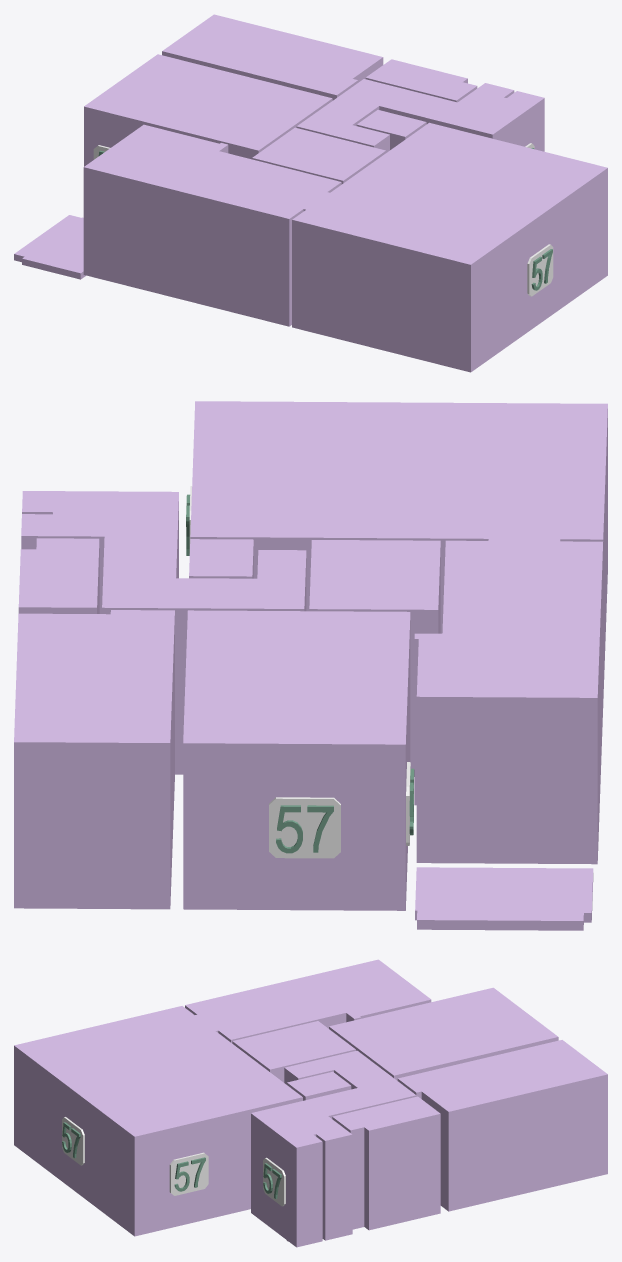
3 renders of one model, top to bottom at view 1: azimuth 30°, elevation 25°; view 2: azimuth 150°, elevation 25°; view 3: azimuth 270°, elevation 25°, orthographic. The views are drawn at different scales.
Parts seen in each view (by area): view 1: g_7, g_6, g_0, g_3, g_1, g_4, g_8, g_2, g_5, g_17; view 2: g_0, g_7, g_6, g_1, g_3, g_8, g_4, g_2, g_14, g_5, g_13; view 3: g_7, g_1, g_3, g_0, g_2, g_6, g_4, g_11, g_5, g_20, g_17.
Part boxes in pixels (x1,y1,x2,y2): g_7: [292, 122, 607, 372]; g_6: [83, 124, 341, 326]; g_0: [84, 54, 332, 166]; g_3: [296, 79, 544, 152]; g_1: [162, 14, 383, 100]; g_4: [252, 127, 385, 184]; g_8: [14, 215, 85, 279]; g_2: [365, 59, 477, 102]; g_5: [356, 110, 426, 149]; g_17: [527, 244, 553, 296]; g_0: [183, 610, 410, 910]; g_7: [190, 401, 607, 698]; g_6: [414, 540, 603, 864]; g_1: [14, 610, 174, 909]; g_3: [21, 491, 306, 774]; g_8: [415, 867, 593, 930]; g_4: [309, 540, 440, 768]; g_2: [18, 538, 99, 613]; g_14: [269, 797, 340, 858]; g_5: [189, 539, 253, 578]; g_13: [276, 805, 302, 853]; g_7: [14, 1006, 302, 1236]; g_1: [397, 1040, 607, 1211]; g_3: [251, 1050, 416, 1247]; g_0: [329, 987, 558, 1080]; g_2: [332, 1096, 440, 1230]; g_6: [185, 959, 431, 1043]; g_4: [232, 1021, 355, 1082]; g_11: [169, 1152, 208, 1195]; g_5: [287, 1071, 351, 1100]; g_20: [263, 1157, 285, 1206]; g_17: [62, 1117, 84, 1165].
Bounding box in the file's own units: 11.18 × 2.74 × 13.9.
